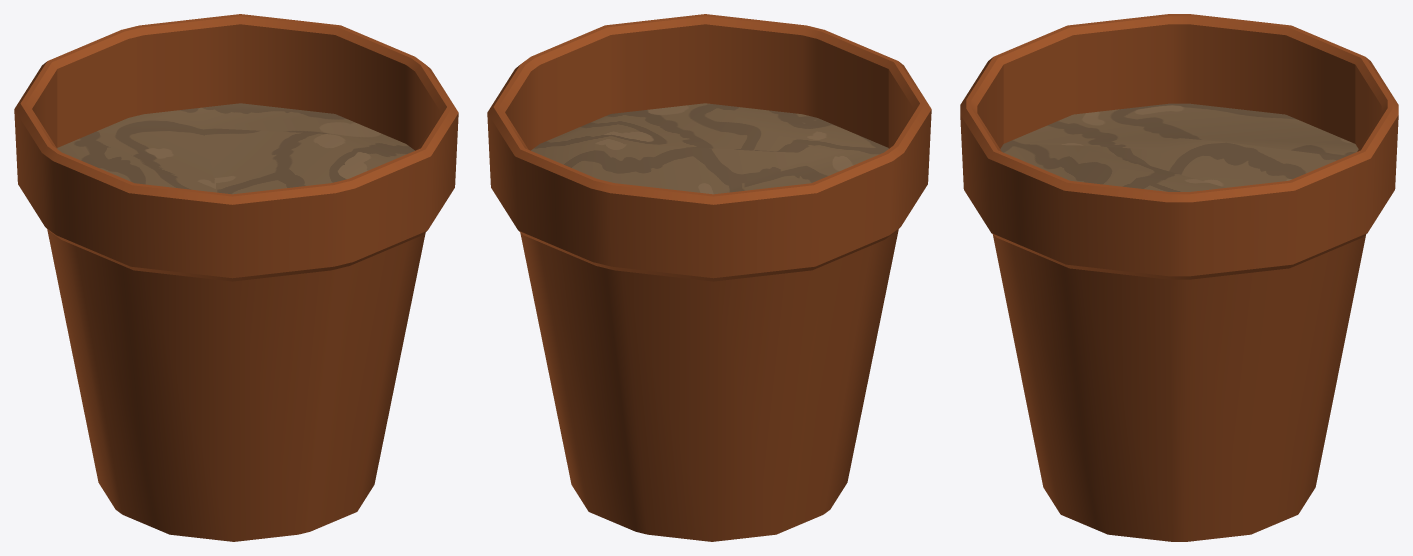
File: flower pot.fbx
The picture shows the model from 3 angles, left to right: view 1: azimuth 30°, elevation 25°; view 2: azimuth 150°, elevation 25°; view 3: azimuth 270°, elevation 25°; orthographic projection.
Visible parts, largest first — view 1: Cube.001; view 2: Cube.001; view 3: Cube.001.
Boxes of the visible parts, x1,y1,x2,y2 form: Cube.001: (14,14,458,541); Cube.001: (487,14,931,541); Cube.001: (960,14,1398,541).
Bounding box in the file's own units: 38.43 × 36.77 × 38.43.
